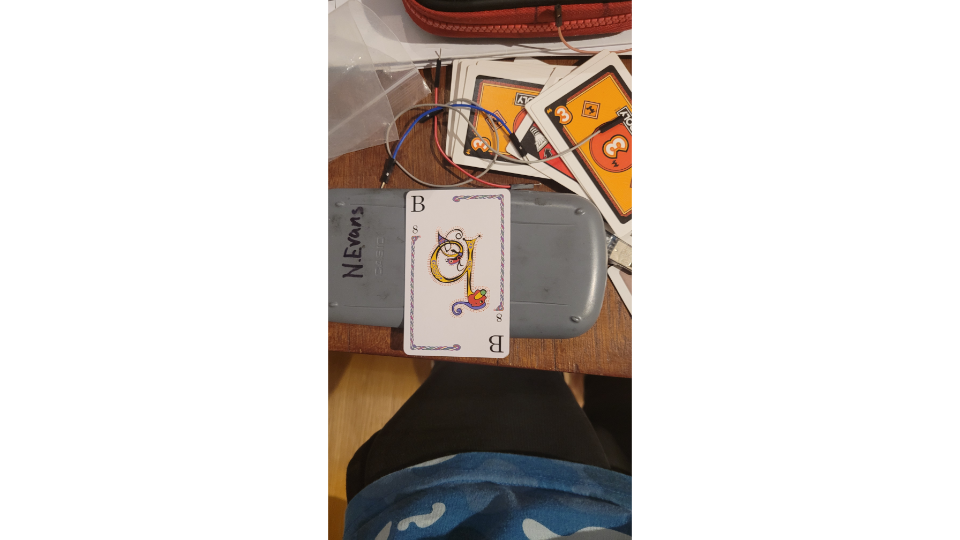B: (400, 184, 515, 361)
